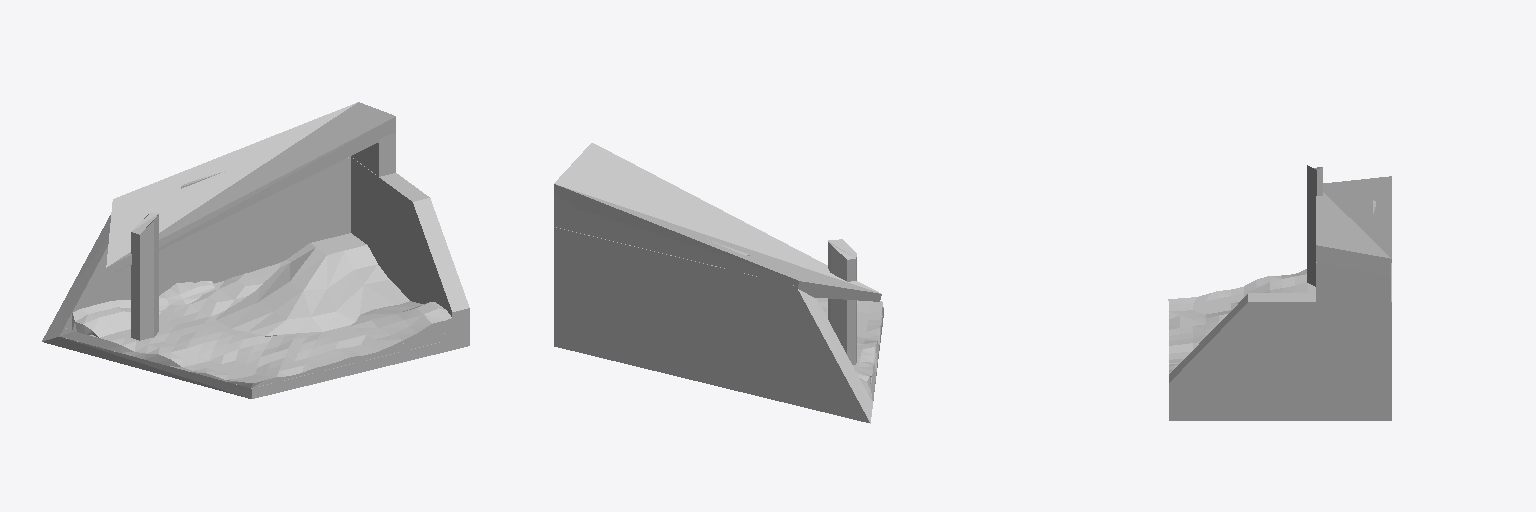
3 renders of one model, left to right at view 1: azimuth 30°, elevation 25°; view 2: azimuth 150°, elevation 25°; view 3: azimuth 270°, elevation 25°, orthographic.
Visible parts, largest first — view 1: BASE_assignment_4:pPlane2Floor1 Base_group_final; view 2: BASE_assignment_4:pPlane2Floor1 Base_group_final; view 3: BASE_assignment_4:pPlane2Floor1 Base_group_final.
Part boxes in pixels (x1,y1,x2,y2): BASE_assignment_4:pPlane2Floor1 Base_group_final: (42, 102, 469, 398); BASE_assignment_4:pPlane2Floor1 Base_group_final: (554, 143, 883, 423); BASE_assignment_4:pPlane2Floor1 Base_group_final: (1168, 165, 1391, 420).
Bounding box in the file's own units: 21.04 × 11.18 × 12.85.